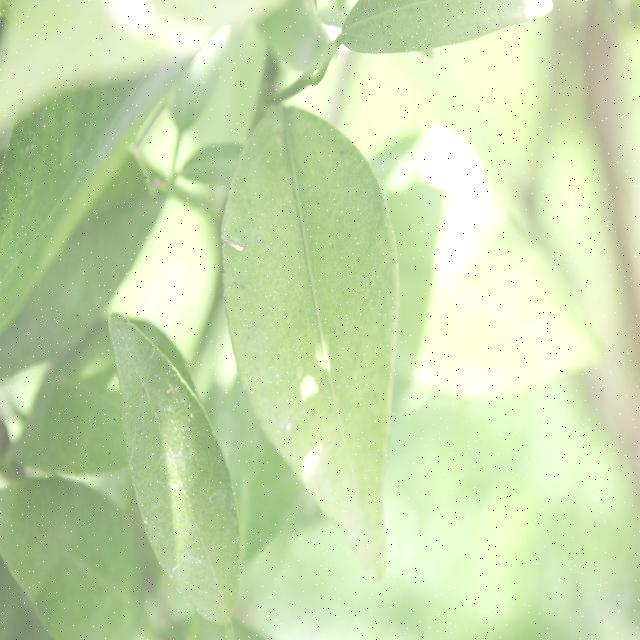blackspot: (224, 126, 404, 521)
